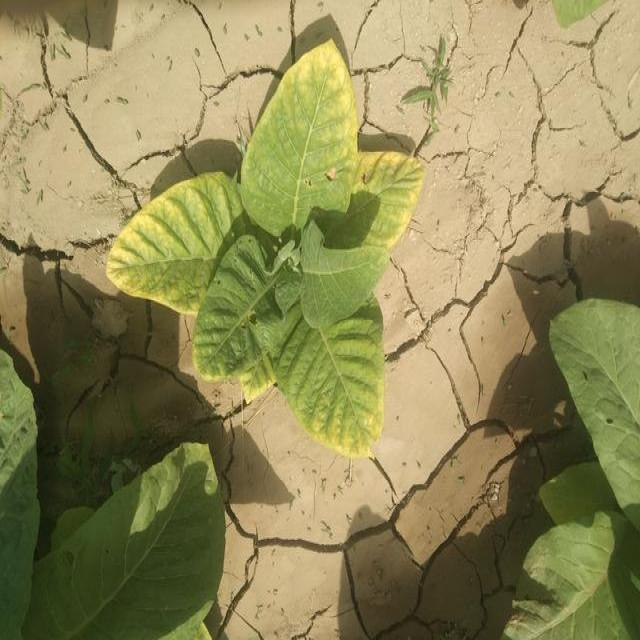crop: (114, 40, 426, 460), (514, 291, 640, 640), (58, 456, 225, 640), (0, 357, 44, 640)
